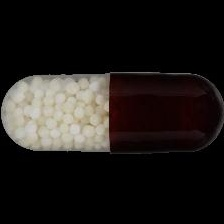50090-0338: (0, 0, 224, 224)
